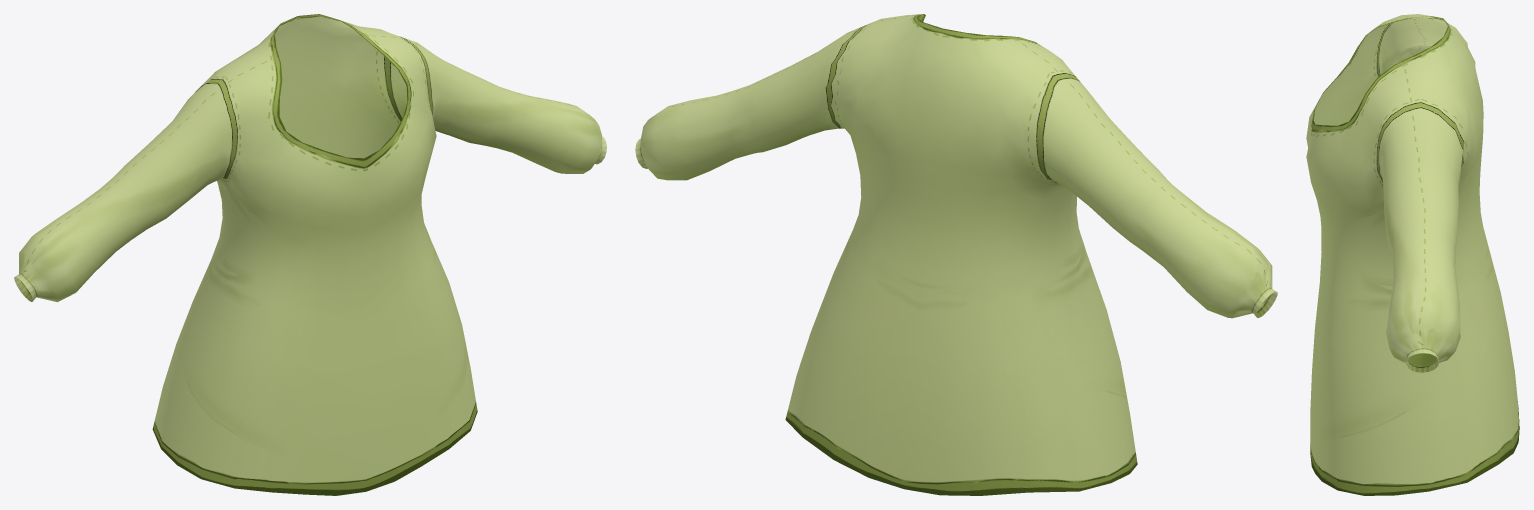
The model's file is greenoutfit.glb.
The picture shows the model from 3 angles, left to right: view 1: azimuth 30°, elevation 25°; view 2: azimuth 150°, elevation 25°; view 3: azimuth 270°, elevation 25°; orthographic projection. The views are drawn at different scales.
Parts seen in each view (by area): view 1: greenoutfit; view 2: greenoutfit; view 3: greenoutfit.
Boxes of the visible parts, <box> form: greenoutfit: <box>14,14,606,495</box>; greenoutfit: <box>635,14,1277,495</box>; greenoutfit: <box>1306,14,1519,495</box>.
Size of the model in its own units: 1.11 by 0.7754 by 0.3499.
Materials: 1 (1 with a texture image).
